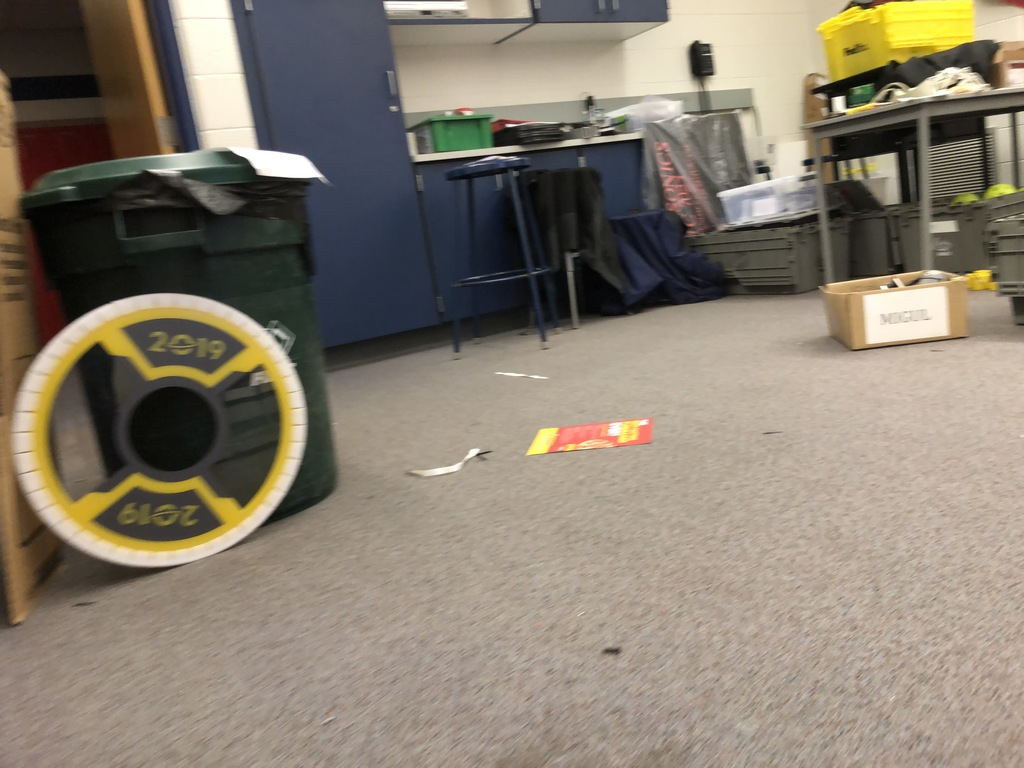hatch_panel: (1, 283, 324, 587)
